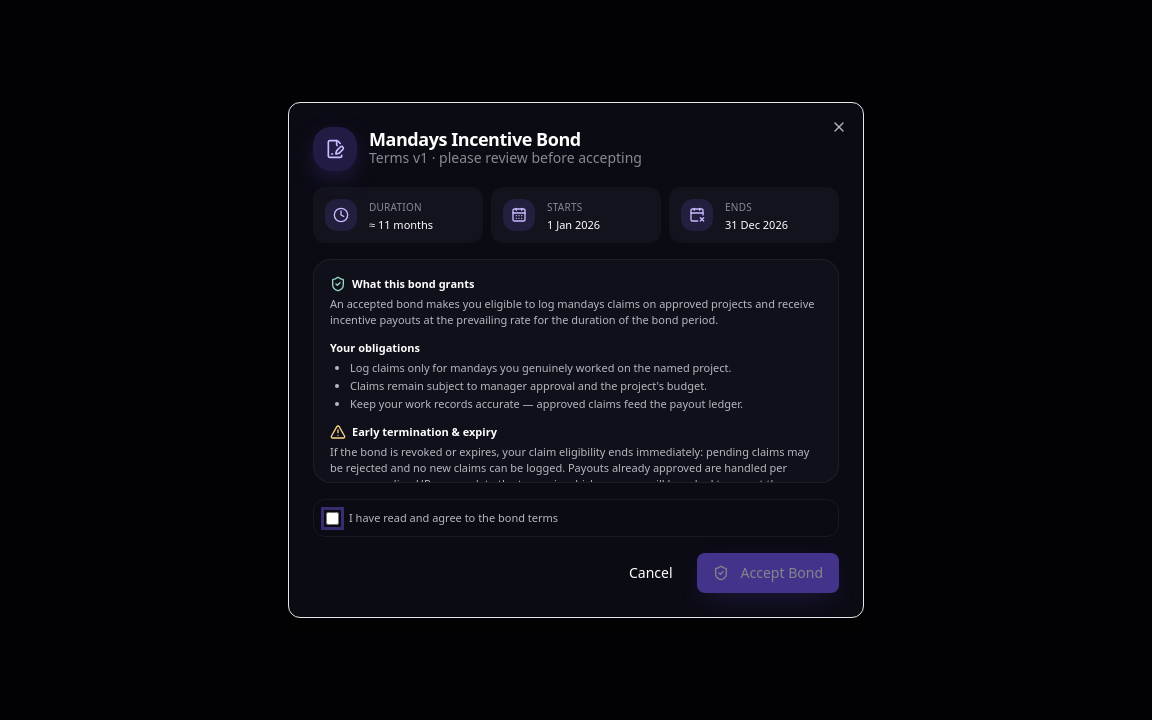
BondAcceptModal › Accept Bond is disabled until the agreement checkbox is ticked
Click the button "Accept Bond" at (768, 573), box [697,553,839,593]
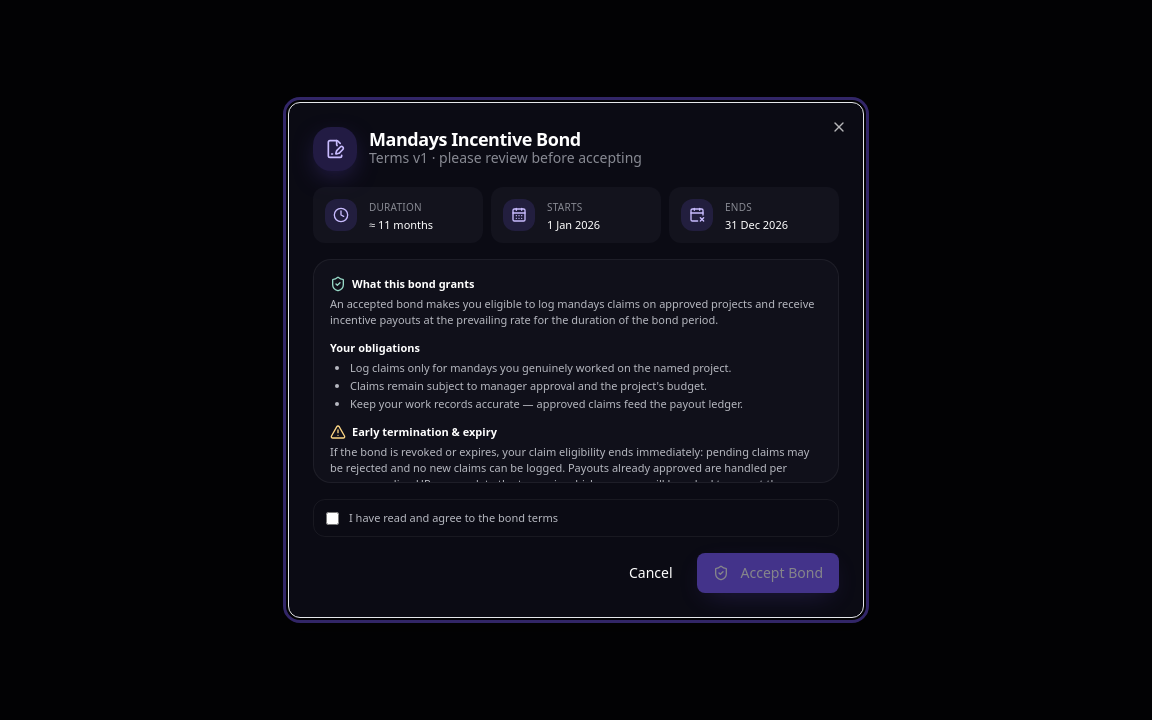
Click the checkbox labelled "I have read and agree to the bond terms" at (332, 518), box [326,512,339,525]
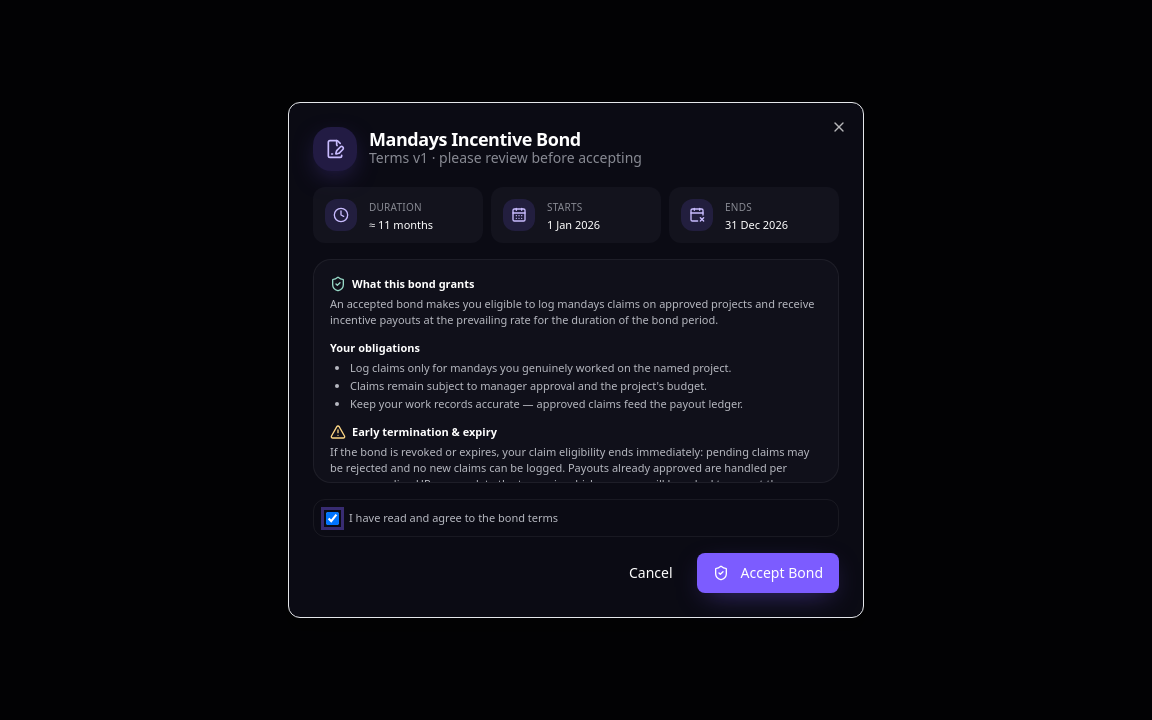
Expected: the button "Accept Bond" is enabled, [697,553,839,593]
